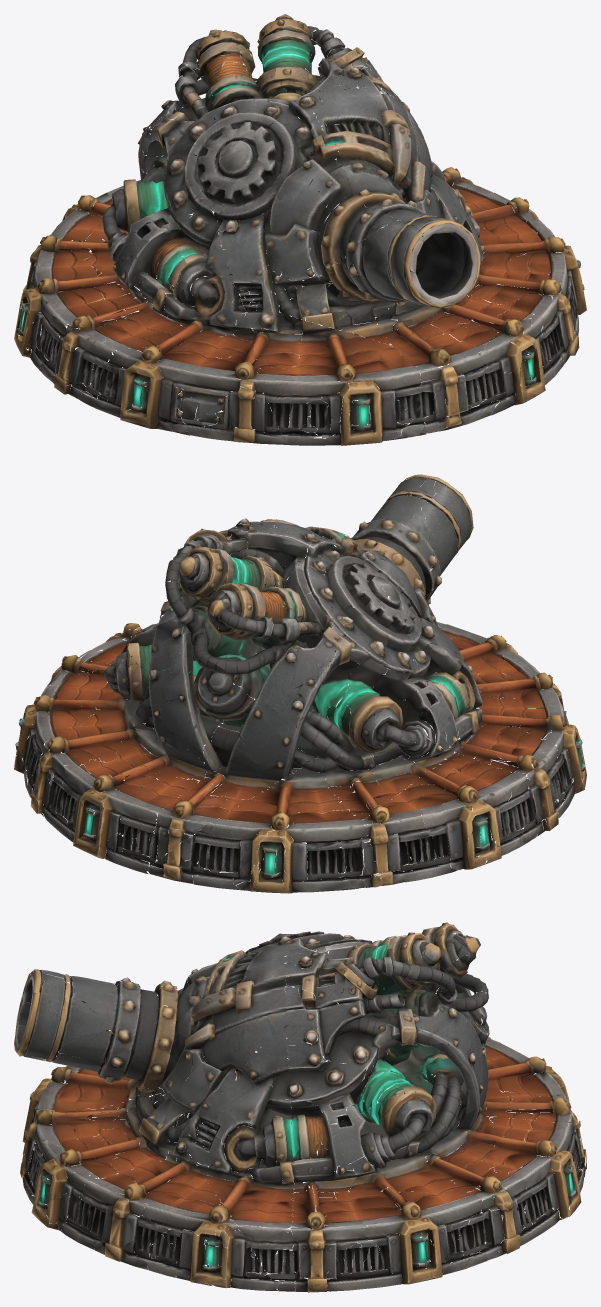
Rendered from warrior-6-tier-2.glb.
3 views of the same model, one above another, from view 1: azimuth 30°, elevation 25°; view 2: azimuth 150°, elevation 25°; view 3: azimuth 270°, elevation 25° (orthographic).
Parts seen in each view (by area): view 1: fixed-platform, moving-assembly; view 2: fixed-platform, moving-assembly; view 3: fixed-platform, moving-assembly.
Boxes of the visible parts, <box> form: fixed-platform: <box>14,159,586,445</box>; moving-assembly: <box>102,14,480,313</box>; fixed-platform: <box>14,602,586,893</box>; moving-assembly: <box>104,474,475,769</box>; fixed-platform: <box>20,1008,586,1292</box>; moving-assembly: <box>14,922,489,1169</box>.
Bounding box in the file's own units: 1.65 × 0.8218 × 1.65.
Materials: 2 (2 with a texture image).
